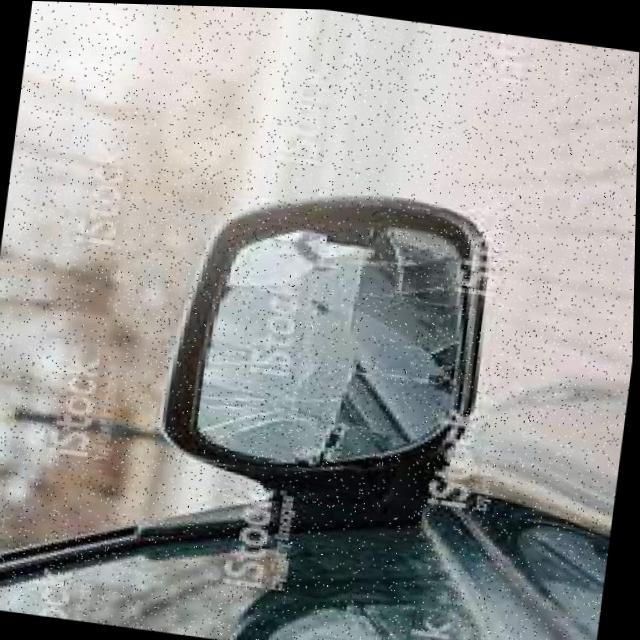Glass_Break: (146, 154, 510, 525)
